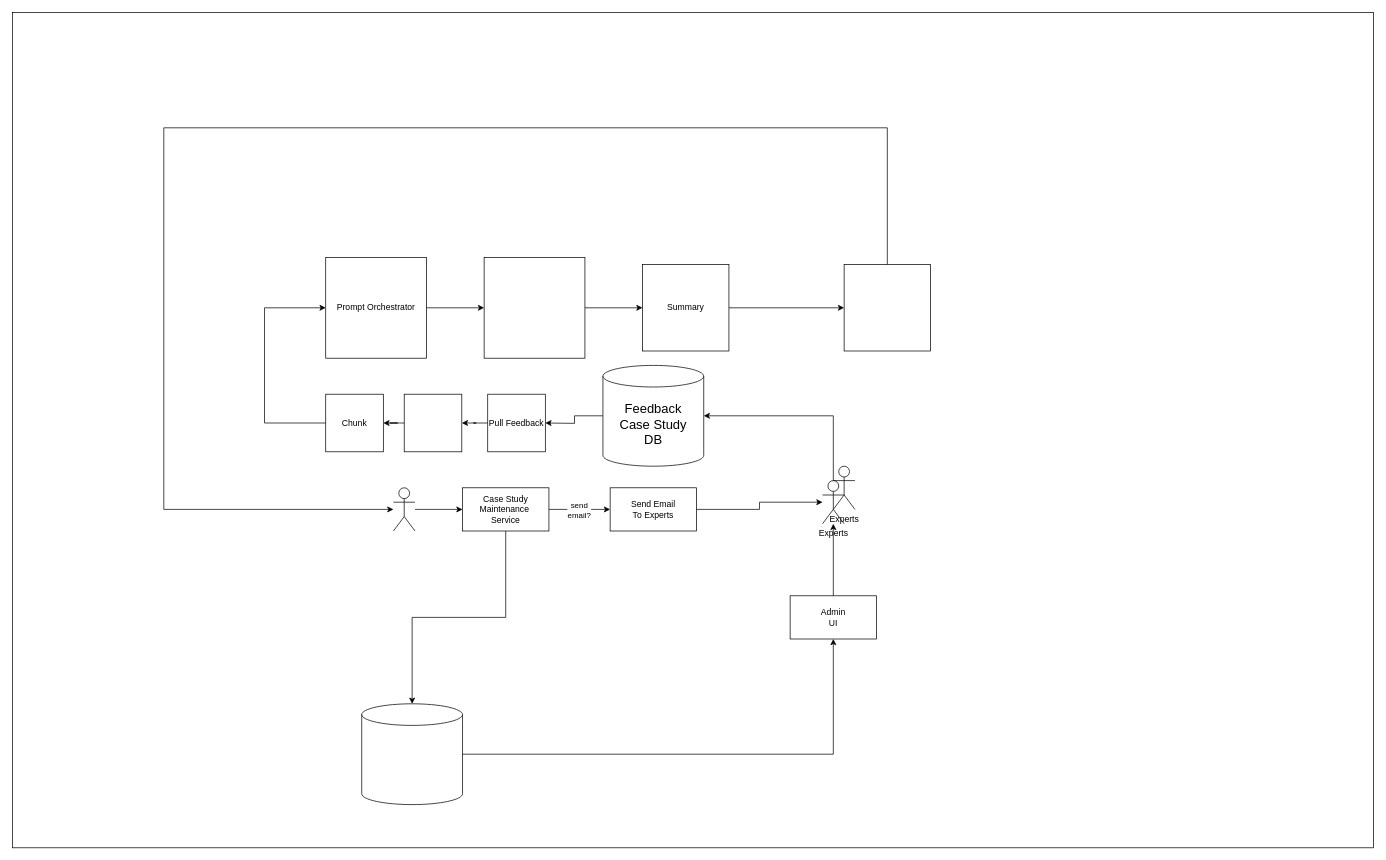
This 1386x860 diagram has some shape labels left out. The shapes that lost their labels are listed below. From the top down, each one's centre as x and y in pixels, then its label:
At pixel 534 307: "LLM".
At pixel 887 307: "Designated Expert Review".
At pixel 432 422: "Compression".
At pixel 404 509: "Designated Expert".
At pixel 412 754: "Case Study DB".
